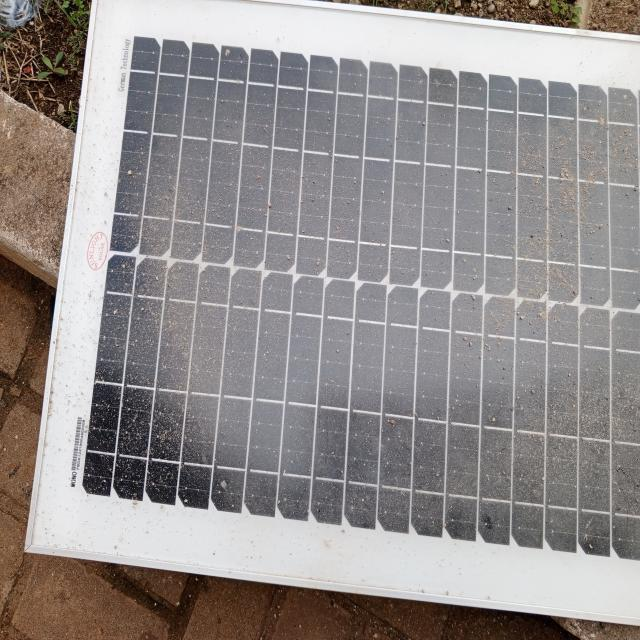Surface Contaminant: (123, 39, 639, 553)
